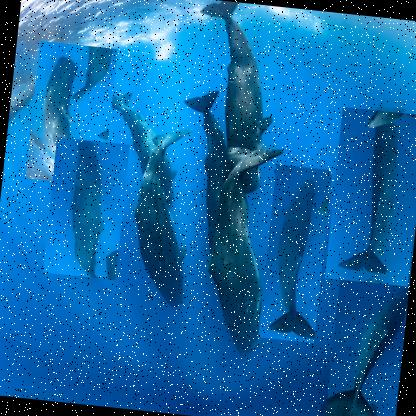sperm_whale: (324, 106, 415, 288), (25, 40, 118, 186), (258, 164, 332, 344), (323, 266, 410, 415), (43, 137, 130, 281)
